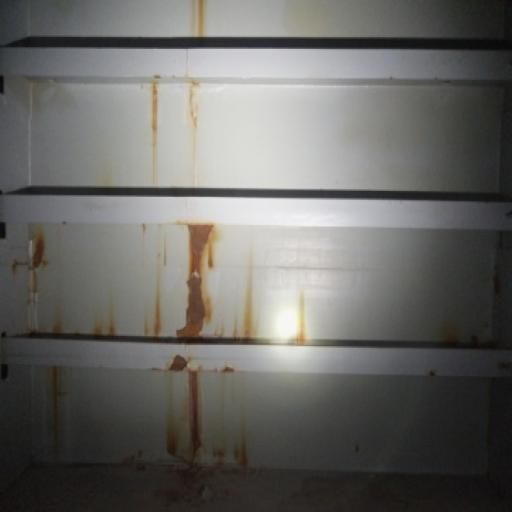Detect-rust-on-metal-surfaces: (149, 348, 259, 505), (170, 216, 219, 343), (140, 67, 168, 193), (233, 276, 265, 347), (174, 71, 210, 128), (284, 288, 311, 347), (19, 228, 53, 274), (149, 252, 165, 336), (190, 3, 214, 38)
